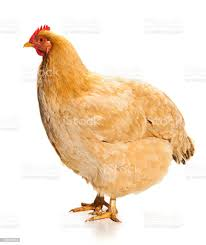buff: (19, 19, 184, 173)
